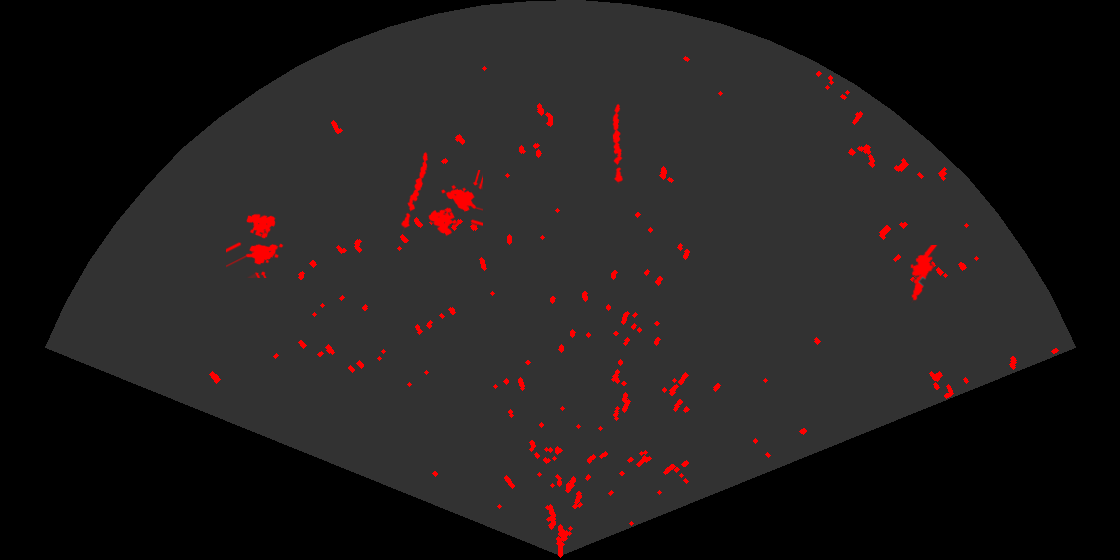cage: (226, 212, 285, 278), (427, 170, 483, 238)
chain: (400, 150, 430, 233), (611, 103, 624, 184)
frogman: (909, 245, 939, 303)
